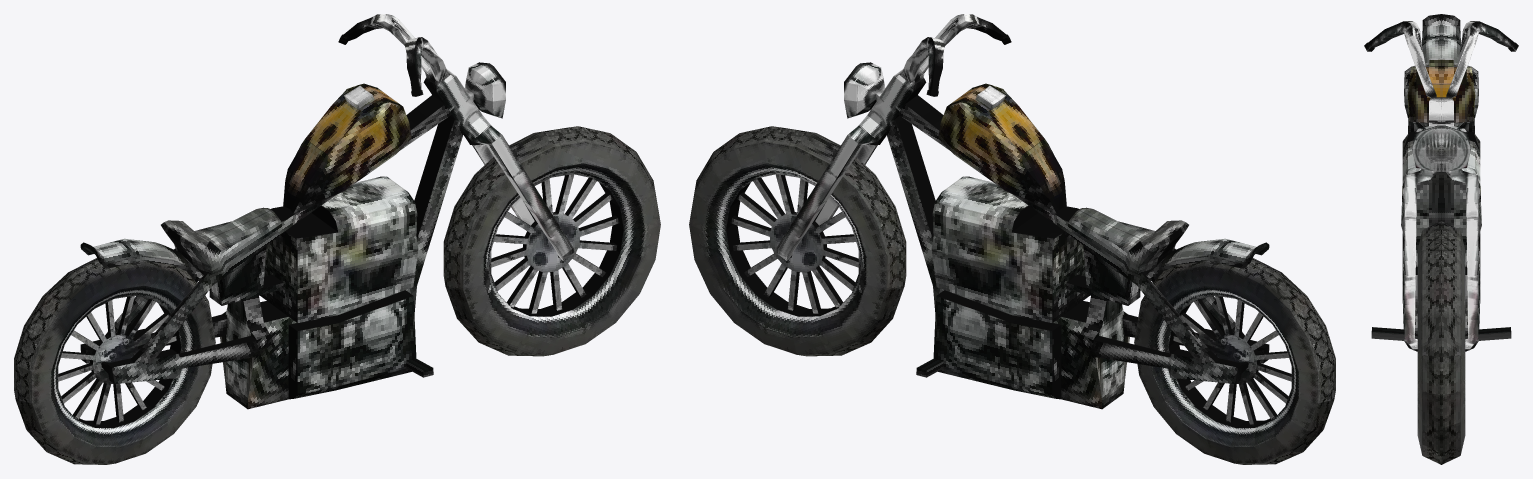
File: motorbike.glb
The picture shows the model from 3 angles, left to right: view 1: azimuth 30°, elevation 25°; view 2: azimuth 150°, elevation 25°; view 3: azimuth 270°, elevation 25°; orthographic projection.
Visible parts, largest first — view 1: motorbike_frame, motorbike_wheel_front, motorbike_wheel_back, motorbike_fork; view 2: motorbike_frame, motorbike_wheel_front, motorbike_wheel_back, motorbike_fork; view 3: motorbike_wheel_front, motorbike_frame, motorbike_fork.
Boxes of the visible parts, x1,y1,x2,y2 form: motorbike_frame: [80, 83, 463, 409]; motorbike_wheel_front: [443, 126, 660, 356]; motorbike_wheel_back: [14, 258, 215, 464]; motorbike_fork: [338, 14, 574, 260]; motorbike_frame: [886, 83, 1269, 409]; motorbike_wheel_front: [689, 126, 906, 356]; motorbike_wheel_back: [1134, 258, 1335, 464]; motorbike_fork: [775, 14, 1011, 260]; motorbike_wheel_front: [1417, 221, 1465, 464]; motorbike_frame: [1371, 14, 1511, 351]; motorbike_fork: [1364, 21, 1518, 350].
Bounding box in the file's own units: 4.98 × 2.71 × 1.05.
Materials: 4 (4 with a texture image).
